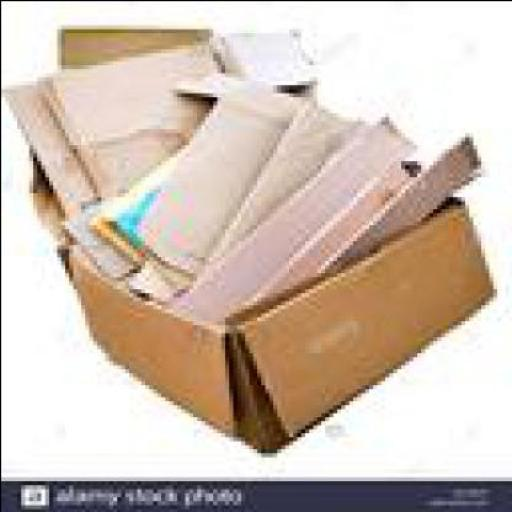cardboard: (60, 180, 488, 452), (168, 112, 408, 329), (28, 24, 204, 220), (128, 84, 295, 272), (36, 36, 216, 196), (199, 84, 352, 268), (244, 152, 424, 308), (320, 140, 476, 284), (1, 43, 100, 233), (84, 140, 172, 260), (204, 24, 312, 88), (116, 256, 188, 300)
